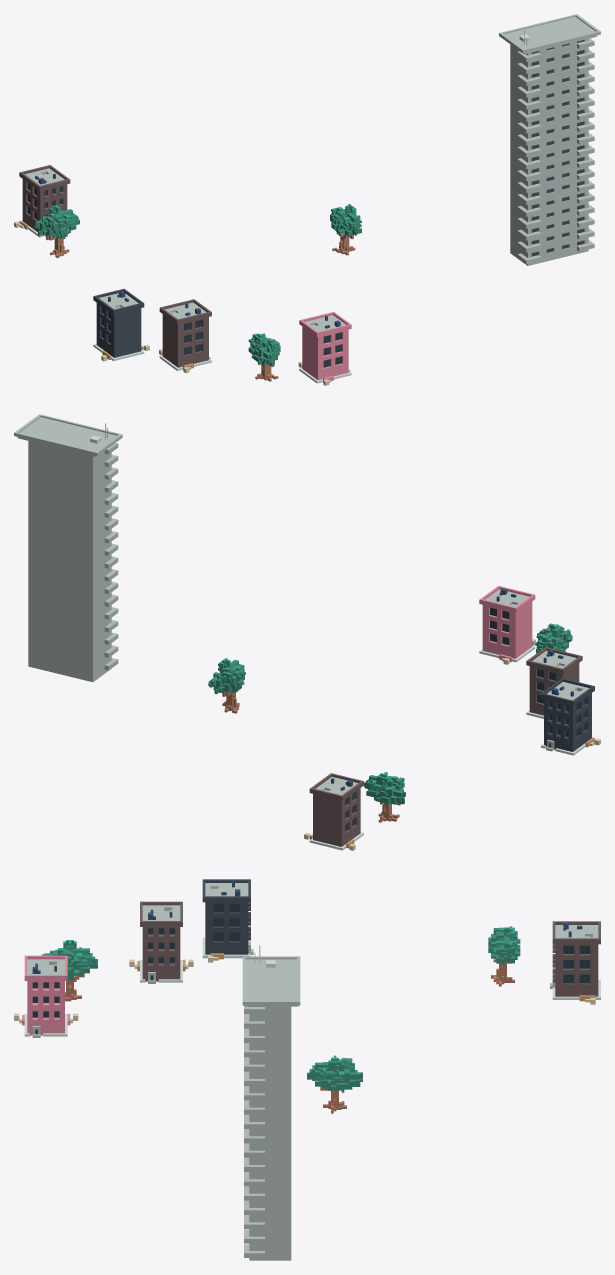
Rendered from ExtraBuildingsAndTrees.fbx.
3 views of the same model, one above another, from view 1: azimuth 30°, elevation 25°; view 2: azimuth 150°, elevation 25°; view 3: azimuth 270°, elevation 25° (orthographic). The views are drawn at different scales.
Visible parts, largest first — view 1: BuildingTest:BuildingTest:pCube5, Tree:BGbuilding1, Tree:BGbuilding2, Tree:BGbuilding3, BGbuilding1:BGbuilding1, Tree:Tree3, Tree:Tree, Tree:Tree1; view 2: BuildingTest:BuildingTest:pCube5, Tree:BGbuilding1, BGbuilding1:BGbuilding1, Tree:BGbuilding3, Tree:BGbuilding2, Tree:Tree3, Tree:Tree, Tree:Tree1; view 3: BuildingTest:BuildingTest:pCube5, BGbuilding1:BGbuilding1, Tree:BGbuilding3, Tree:BGbuilding1, Tree:BGbuilding2, Tree:Tree, Tree:Tree3, Tree:Tree1.
Boxes of the visible parts, left/top/right/bottom form: BuildingTest:BuildingTest:pCube5: left=499, top=14, right=600, bottom=265; Tree:BGbuilding1: left=298, top=312, right=351, bottom=385; Tree:BGbuilding2: left=159, top=299, right=211, bottom=373; Tree:BGbuilding3: left=93, top=288, right=149, bottom=361; BGbuilding1:BGbuilding1: left=14, top=165, right=70, bottom=237; Tree:Tree3: left=34, top=205, right=79, bottom=257; Tree:Tree: left=330, top=204, right=361, bottom=255; Tree:Tree1: left=248, top=333, right=280, bottom=381; BuildingTest:BuildingTest:pCube5: left=14, top=414, right=122, bottom=682; Tree:BGbuilding1: left=479, top=585, right=535, bottom=664; BGbuilding1:BGbuilding1: left=304, top=773, right=363, bottom=850; Tree:BGbuilding3: left=541, top=678, right=600, bottom=755; Tree:BGbuilding2: left=526, top=647, right=582, bottom=718; Tree:Tree3: left=364, top=772, right=405, bottom=822; Tree:Tree: left=208, top=658, right=245, bottom=713; Tree:Tree1: left=535, top=623, right=572, bottom=653; BuildingTest:BuildingTest:pCube5: left=242, top=945, right=300, bottom=1260; BGbuilding1:BGbuilding1: left=550, top=921, right=600, bottom=1004; Tree:BGbuilding3: left=202, top=879, right=253, bottom=962; Tree:BGbuilding1: left=14, top=955, right=78, bottom=1037; Tree:BGbuilding2: left=129, top=901, right=193, bottom=983; Tree:Tree: left=307, top=1055, right=362, bottom=1113; Tree:Tree3: left=488, top=926, right=520, bottom=986; Tree:Tree1: left=41, top=940, right=97, bottom=1001.
Bounding box in the file's own units: 266 × 115 × 219.
